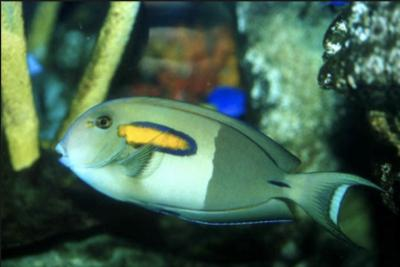Acanthuridae -Surgeonfishes-: (55, 95, 387, 254)
